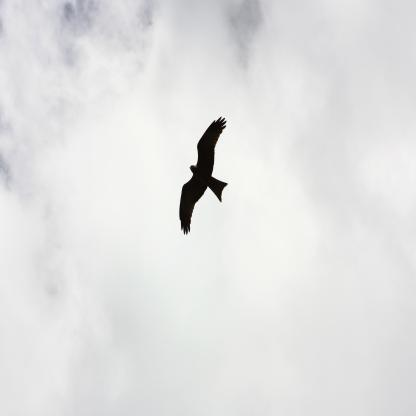bird: (180, 116, 228, 235)
